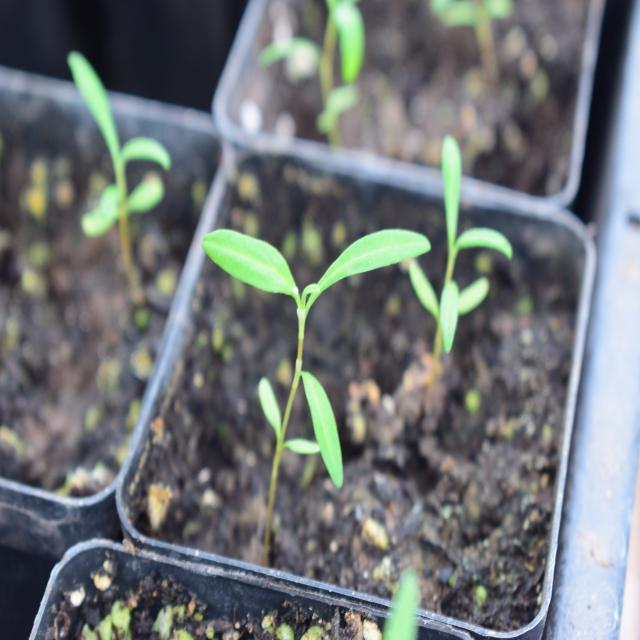white_smart_weed: (193, 194, 426, 508)
